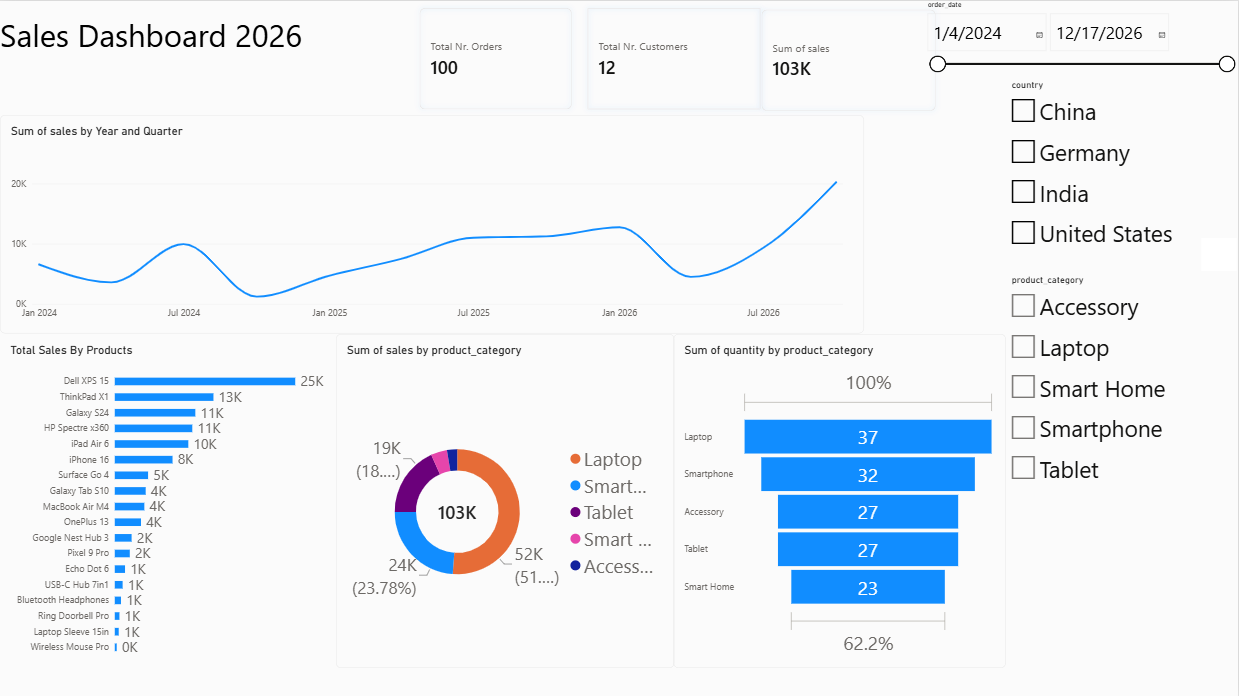

This screenshot's page, from the dashboard's own definition file:
{"tool":"powerbi","page":{"name":"Page 1","canvas":[1920,1080],"ordinal":0},"visuals":[{"type":"barChart","title":"Total Sales By Products","fields":{"Category":["orders.product_name"],"Y":["Sum(orders.sales)"]},"box":[0,515.6,517.9,517.9],"z":0},{"type":"donutChart","fields":{"Category":["orders.product_category"],"Y":["Sum(orders.sales)"]},"box":[520.1,515.6,524.7,517.9],"z":1000},{"type":"cardVisual","title":"Total Orders","fields":{"Data":["Count(orders.order_id)"]},"box":[640.5,0,258.9,179.4],"z":2000},{"type":"cardVisual","title":"Total Customers","fields":{"Data":["Count(customers.customer_id)"]},"box":[899.4,0,290.7,179.4],"z":3000},{"type":"cardVisual","title":"Total Sales","fields":{"Data":["Sum(orders.sales)"]},"box":[1169.7,2.3,293,179.4],"z":4000},{"type":"lineChart","fields":{"Category":["orders.order_date.Variation.Date Hierarchy.Year","orders.order_date.Variation.Date Hierarchy.Quarter","orders.order_date.Variation.Date Hierarchy.Month","orders.order_date.Variation.Date Hierarchy.Day"],"Y":["Sum(orders.sales)"]},"box":[0,177.2,1340.1,338.4],"z":5000},{"type":"slicer","fields":{"Values":["customers.country"]},"box":[1560.4,120.4,358.9,277.1],"z":6000},{"type":"slicer","fields":{"Values":["orders.product_category"]},"box":[1560.4,422.5,358.9,352.1],"z":7000},{"type":"slicer","fields":{"Values":["orders.order_date"]},"box":[1430.9,0,488.3,129.5],"z":8000},{"type":"textbox","box":[0,18.2,517.9,140.8],"z":9000},{"type":"funnel","fields":{"Category":["orders.product_category"],"Y":["Sum(orders.quantity)"]},"box":[1044.8,515.6,515.6,517.9],"z":10000}]}

Visuals, with their boxes in screenshot pixels (x1, y1, x2, y2), scaled from the page's 1920x1080 canvas onto the 1239x696 screenshot:
"Total Sales By Products" barChart: detection(0, 332, 334, 666)
donutChart - orders.product_category x Sum(orders.sales): detection(336, 332, 674, 666)
"Total Orders" cardVisual: detection(413, 0, 580, 116)
"Total Customers" cardVisual: detection(580, 0, 768, 116)
"Total Sales" cardVisual: detection(755, 1, 944, 117)
lineChart - orders.order_date.Variation.Date Hierarchy.Year x orders.order_date.Variation.Date Hierarchy.Quarter: detection(0, 114, 865, 332)
slicer - customers.country: detection(1007, 78, 1238, 256)
slicer - orders.product_category: detection(1007, 272, 1238, 499)
slicer - orders.order_date: detection(923, 0, 1238, 83)
textbox: detection(0, 12, 334, 102)
funnel - orders.product_category x Sum(orders.quantity): detection(674, 332, 1007, 666)
